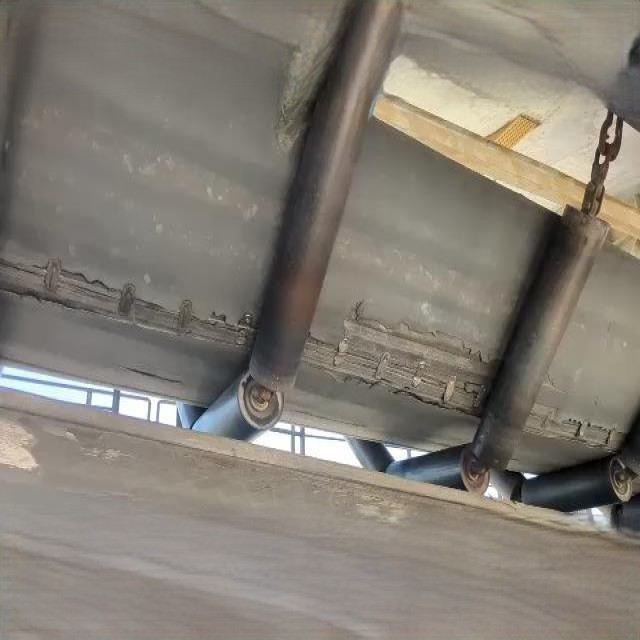Tear: (0, 250, 257, 360), (300, 297, 496, 428), (524, 374, 625, 461)
Wear: (270, 73, 321, 159)
